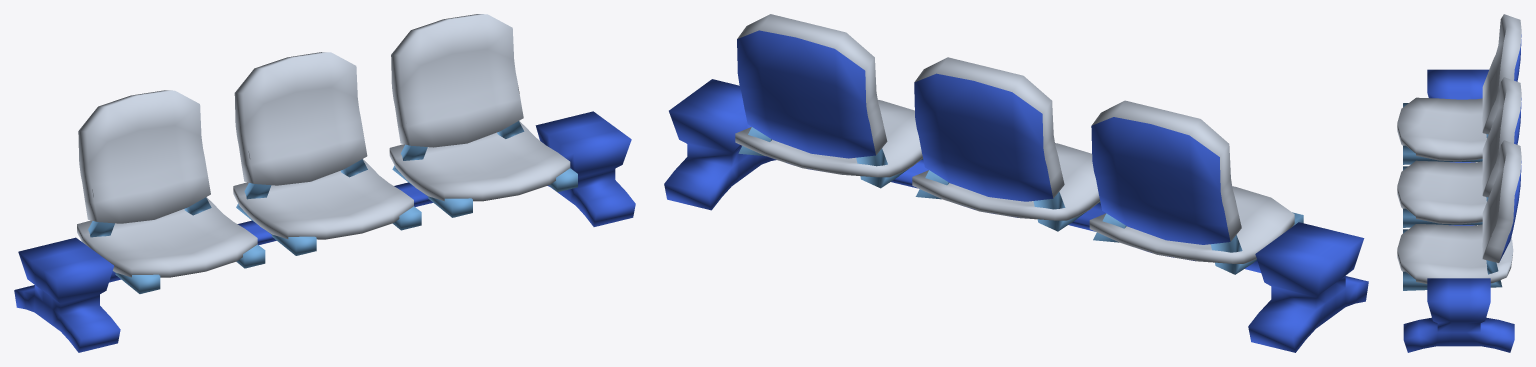
Rendered from CadeirasHospitalar3Lugares.fbx.
The picture shows the model from 3 angles, left to right: view 1: azimuth 30°, elevation 25°; view 2: azimuth 150°, elevation 25°; view 3: azimuth 270°, elevation 25°; orthographic projection. The views are drawn at different scales.
Parts seen in each view (by area): view 1: CadeirasHospitalar3Lugares; view 2: CadeirasHospitalar3Lugares; view 3: CadeirasHospitalar3Lugares.
Boxes of the visible parts, box(x1,y1,x2,y2) form: CadeirasHospitalar3Lugares: box(14, 14, 635, 352); CadeirasHospitalar3Lugares: box(664, 14, 1368, 352); CadeirasHospitalar3Lugares: box(1397, 14, 1521, 352).
Bounding box in the file's own units: 291 × 89.01 × 66.
1 material, 1 textured.
